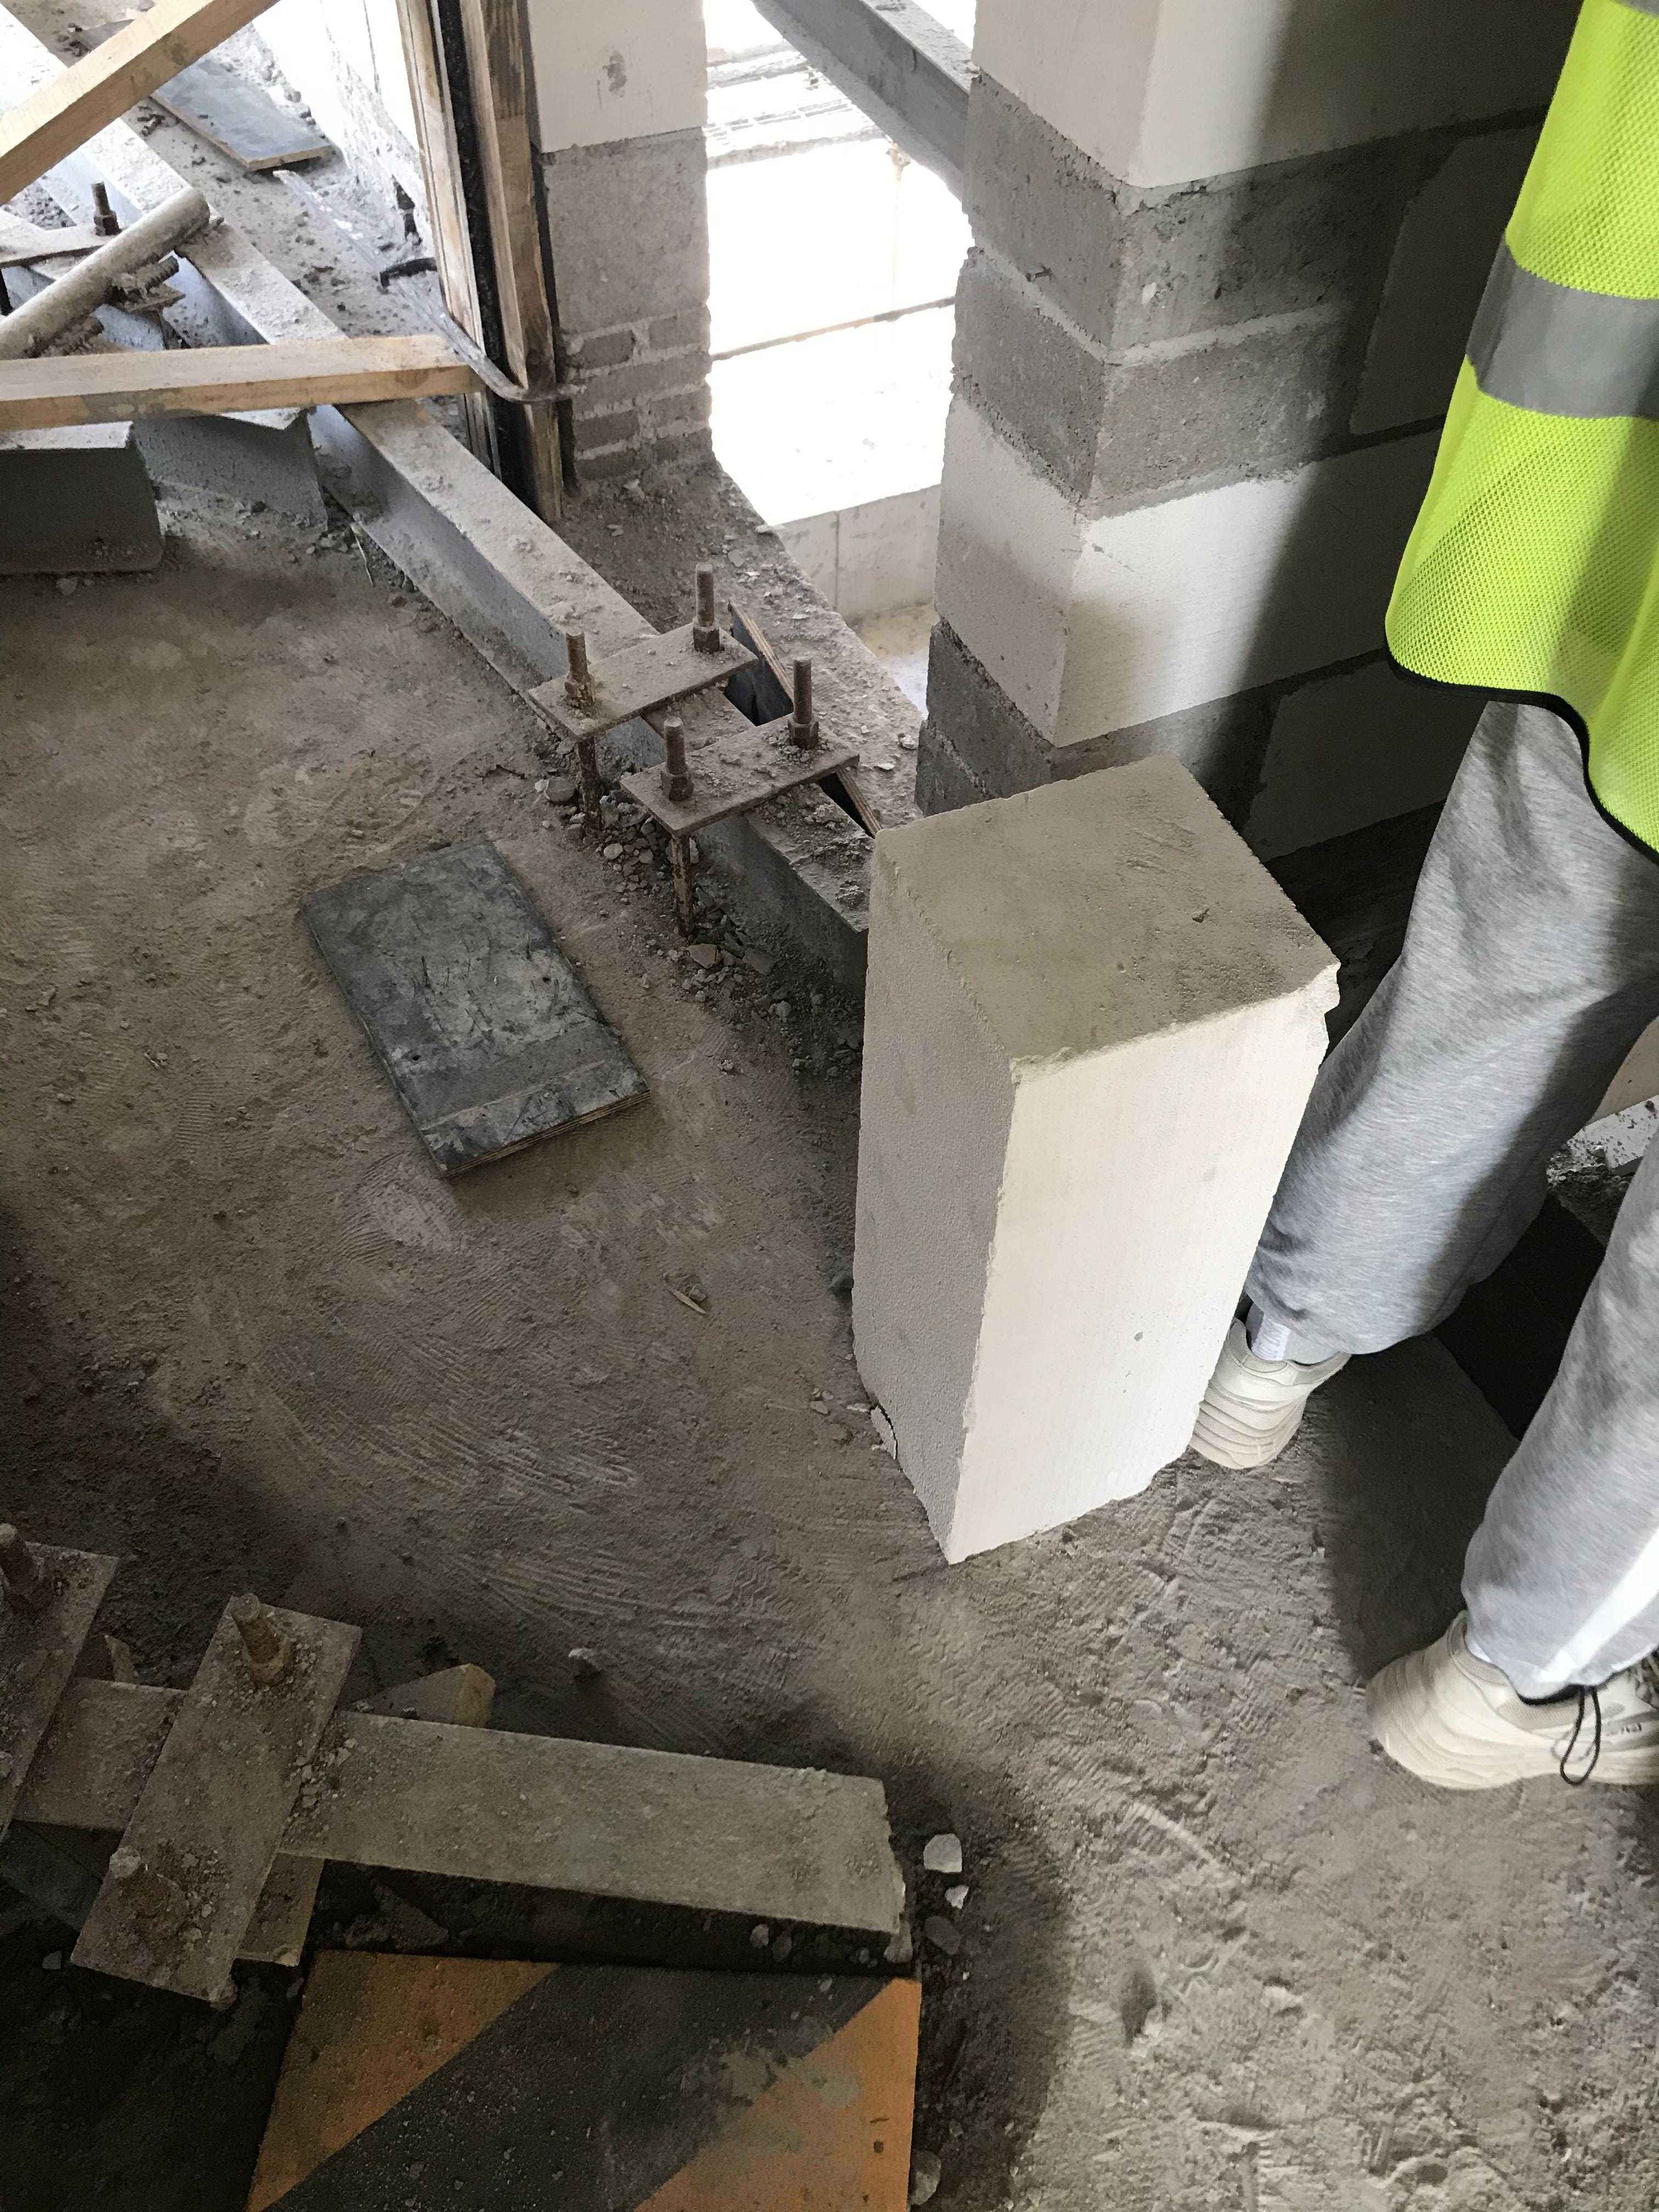person: (1, 1, 1659, 471)
vest: (1, 1, 870, 279)
